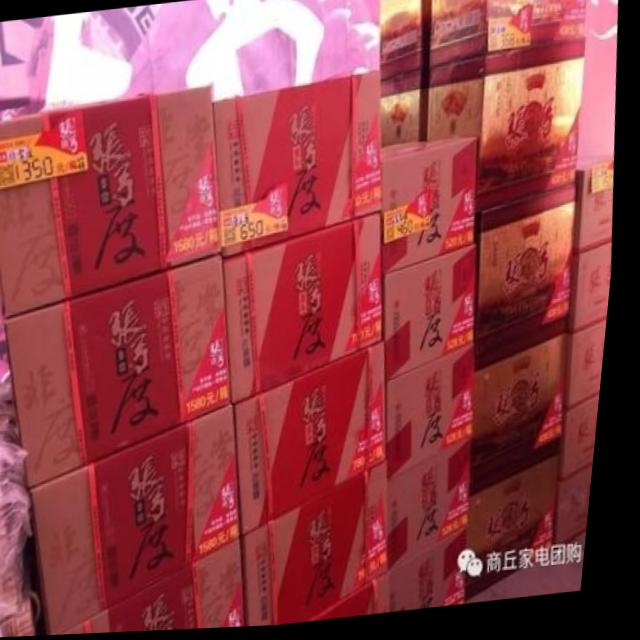box: (9, 257, 239, 491), (0, 85, 228, 317), (37, 405, 252, 636), (215, 73, 387, 261), (229, 213, 391, 405), (241, 343, 395, 536), (429, 43, 586, 218), (253, 463, 400, 629), (65, 535, 258, 636), (478, 429, 572, 604), (482, 304, 578, 471), (483, 186, 581, 340), (384, 142, 479, 278), (389, 246, 482, 380), (395, 344, 483, 482), (397, 438, 482, 571), (431, 0, 586, 70), (402, 528, 480, 614), (381, 0, 431, 82), (381, 69, 430, 152), (325, 571, 403, 622), (579, 155, 616, 257), (574, 325, 614, 416), (563, 469, 603, 558), (569, 397, 608, 486), (579, 246, 616, 336)
